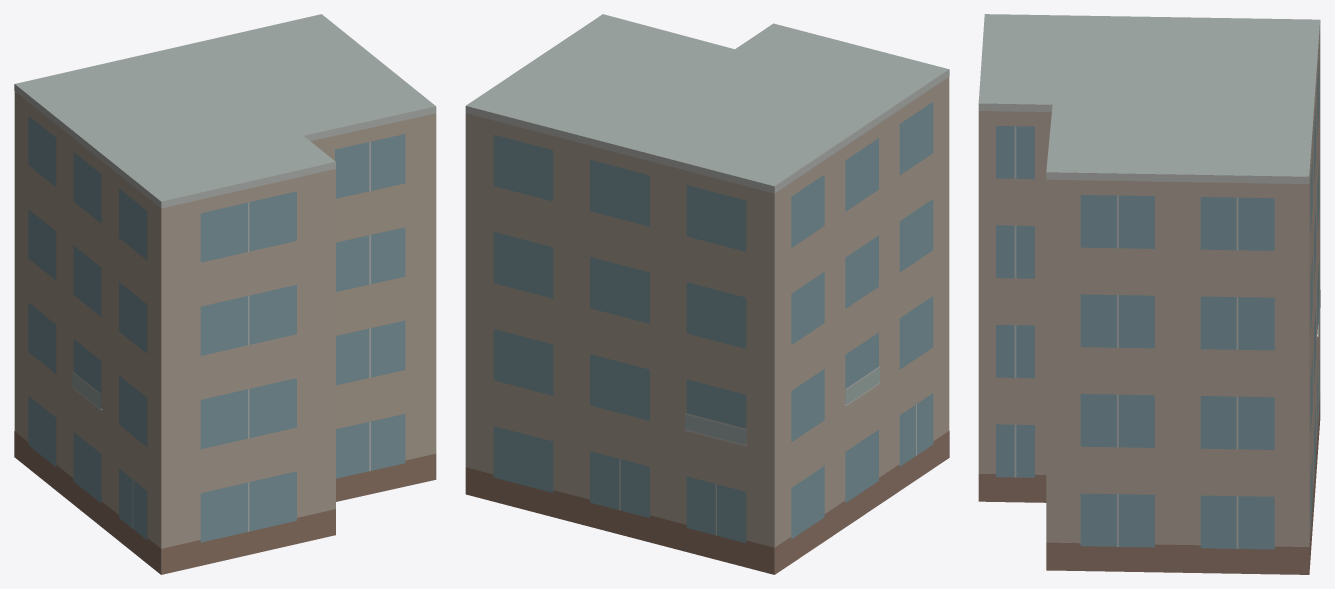
Rendered from survey-upis-32914871.glb.
3 renders of one model, left to right at view 1: azimuth 30°, elevation 25°; view 2: azimuth 150°, elevation 25°; view 3: azimuth 270°, elevation 25°, orthographic. The views are drawn at different scales.
Visible parts, largest first — view 1: survey-upis-32914871.tmp; view 2: survey-upis-32914871.tmp; view 3: survey-upis-32914871.tmp.
Part boxes in pixels (x1,y1,x2,y2): survey-upis-32914871.tmp: [14, 14, 436, 574]; survey-upis-32914871.tmp: [465, 14, 949, 574]; survey-upis-32914871.tmp: [978, 14, 1320, 574].
Size of the model in its own units: 11.49 by 13.1 by 10.2.
